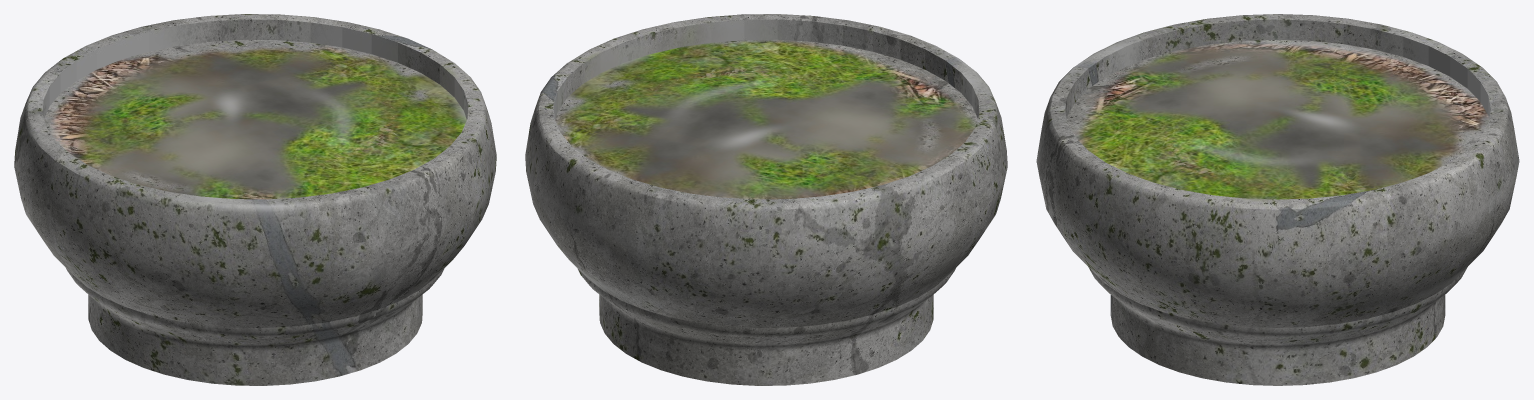
Rendered from planter_pot.glb.
3 renders of one model, left to right at view 1: azimuth 30°, elevation 25°; view 2: azimuth 150°, elevation 25°; view 3: azimuth 270°, elevation 25°, orthographic.
Visible parts, largest first — view 1: planter_pot_w; view 2: planter_pot_w; view 3: planter_pot_w.
Part boxes in pixels (left/top/right/bottom): planter_pot_w: left=14, top=14, right=496, bottom=385; planter_pot_w: left=525, top=14, right=1007, bottom=385; planter_pot_w: left=1036, top=14, right=1519, bottom=385.
Bounding box in the file's own units: 1.28 × 0.6 × 1.28.
Materials: 1 (1 with a texture image).
